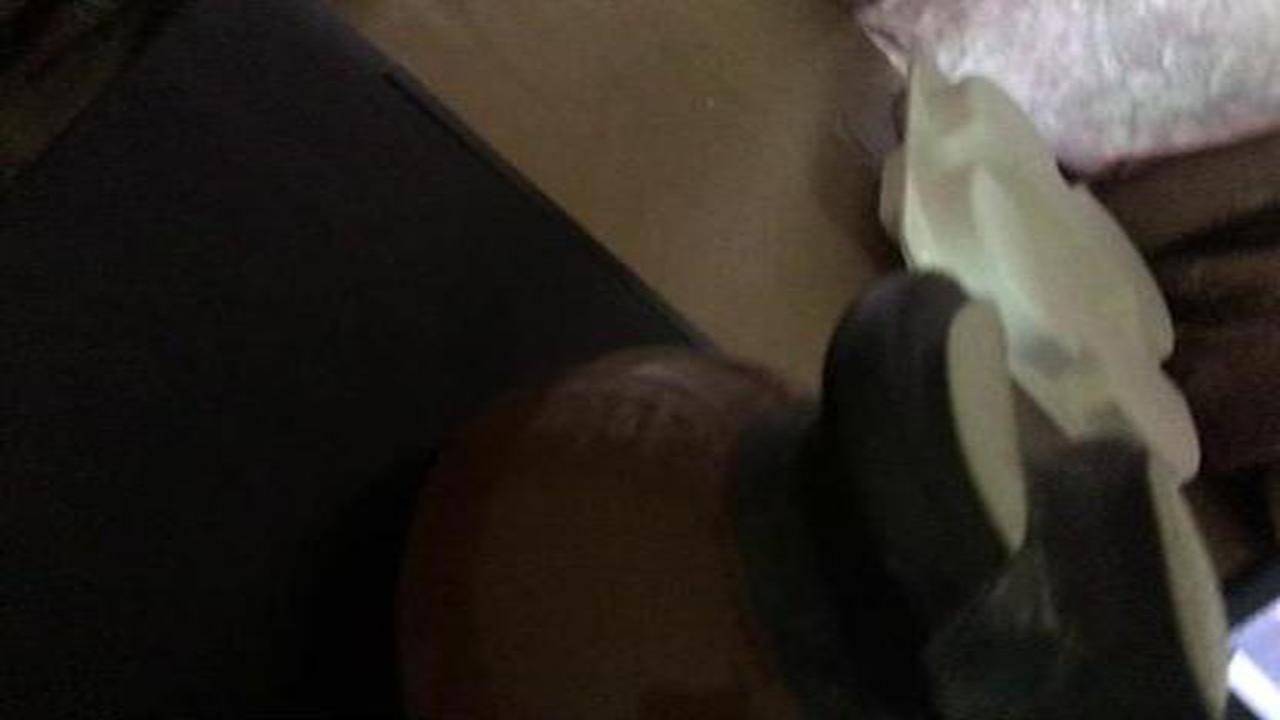insulator_pin: (388, 258, 1250, 714)
